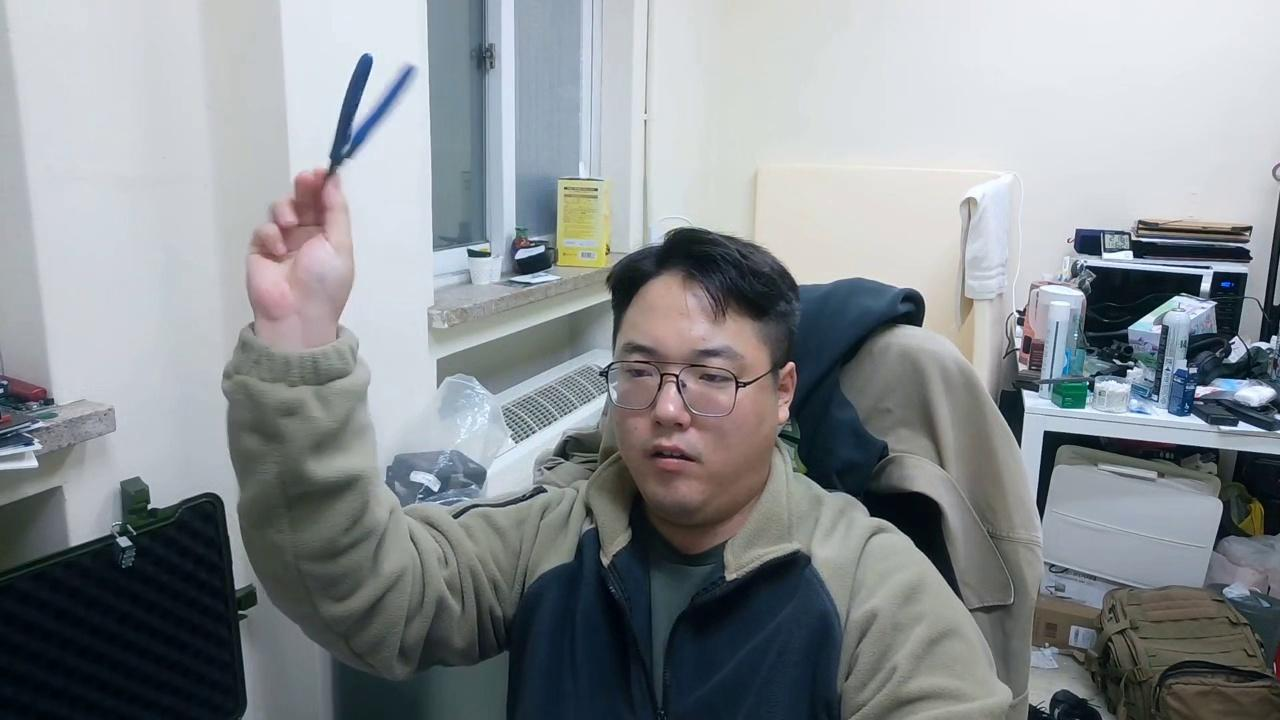blue_pliers: (324, 51, 418, 177)
